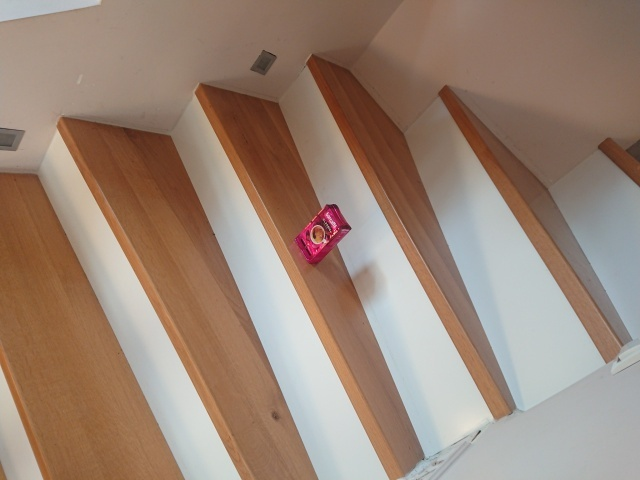Barcaffe Classic Original 225g: (292, 202, 353, 268)
